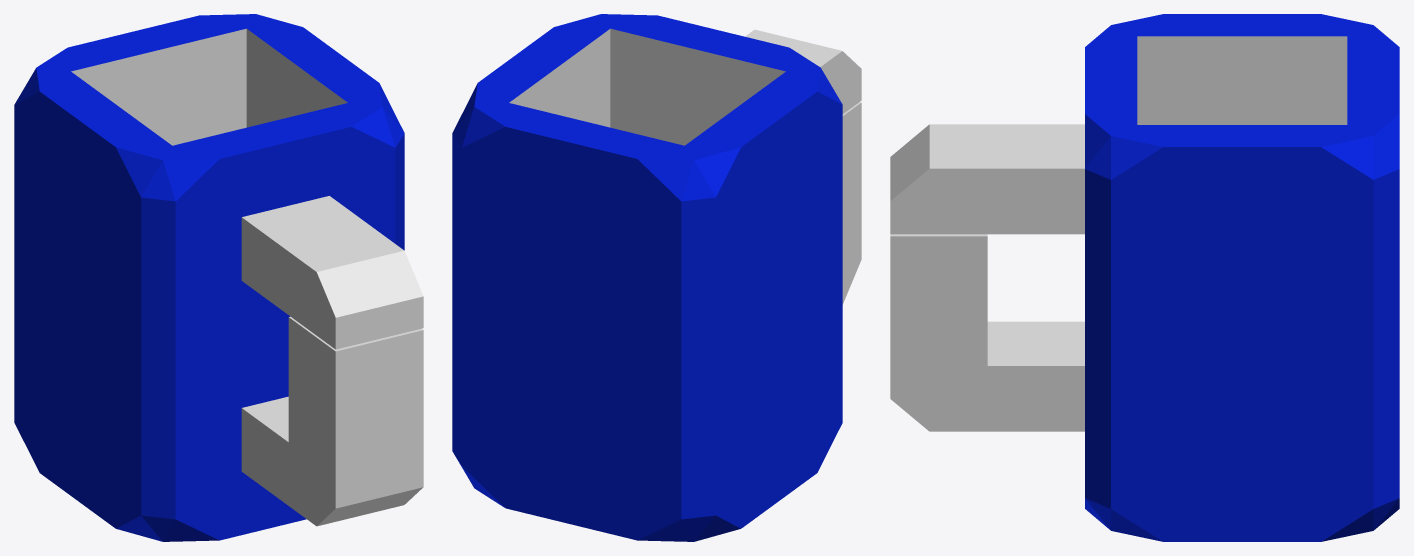
The model's file is Blue Mug.glb.
The picture shows the model from 3 angles, left to right: view 1: azimuth 30°, elevation 25°; view 2: azimuth 150°, elevation 25°; view 3: azimuth 270°, elevation 25°; orthographic projection. The views are drawn at different scales.
Parts seen in each view (by area): view 1: Cube; view 2: Cube; view 3: Cube.
Boxes of the visible parts, left/top/right/bottom form: Cube: left=14, top=14, right=423, bottom=541; Cube: left=452, top=14, right=861, bottom=541; Cube: left=890, top=14, right=1399, bottom=541.
Size of the model in its own units: 8.24 by 11.4 by 13.33.
